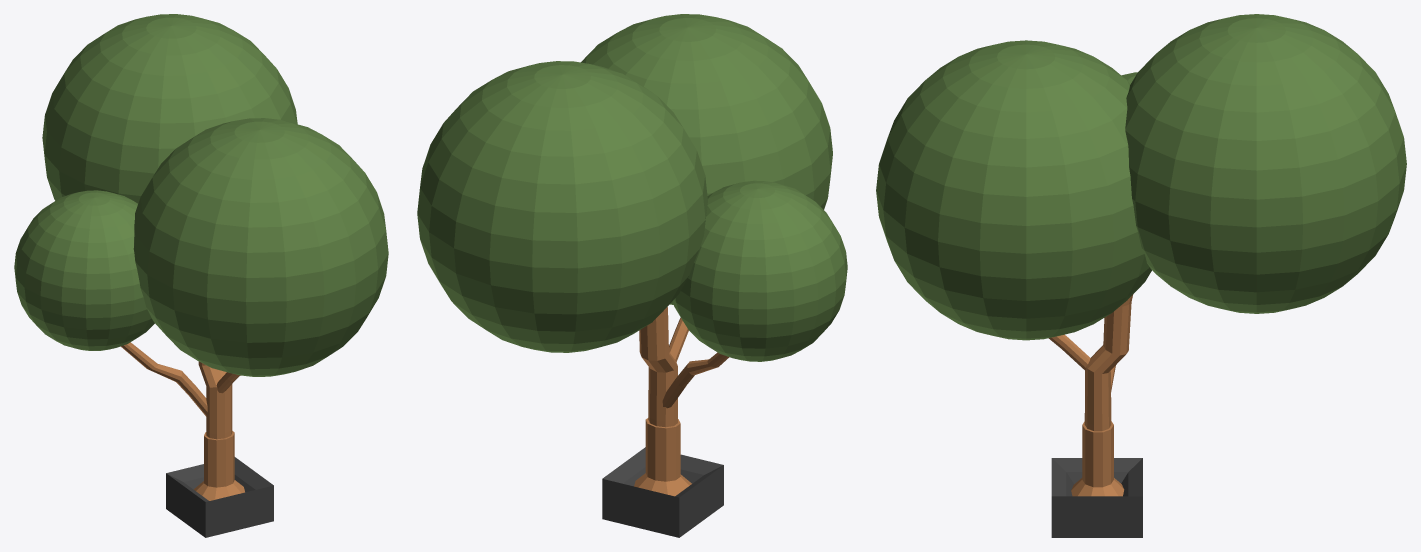
File: tree3.fbx
The picture shows the model from 3 angles, left to right: view 1: azimuth 30°, elevation 25°; view 2: azimuth 150°, elevation 25°; view 3: azimuth 270°, elevation 25°; orthographic projection. The views are drawn at different scales.
Visible parts, largest first — view 1: Sphere.001, Sphere, Sphere.002, Cube, Cylinder, Cylinder.003; view 2: Sphere, Sphere.001, Sphere.002, Cube, Cylinder, Cylinder.003; view 3: Sphere, Sphere.001, Cube, Cylinder.
Boxes of the visible parts, <box> form: Sphere.001: <box>133,118,388,376</box>; Sphere: <box>42,14,297,203</box>; Sphere.002: <box>14,190,154,350</box>; Cube: <box>166,457,273,537</box>; Cylinder: <box>194,361,244,500</box>; Cylinder.003: <box>121,342,207,416</box>; Sphere: <box>417,61,707,352</box>; Sphere.001: <box>581,14,832,304</box>; Sphere.002: <box>672,180,847,361</box>; Cube: <box>602,447,723,537</box>; Cylinder: <box>634,307,691,496</box>; Cylinder.003: <box>662,352,729,408</box>; Sphere: <box>1125,14,1406,313</box>; Sphere.001: <box>876,40,1151,340</box>; Cube: <box>1051,458,1142,537</box>; Cylinder: <box>1071,295,1132,496</box>.
Bounding box in the file's own units: 1553 × 2097 × 2009.
